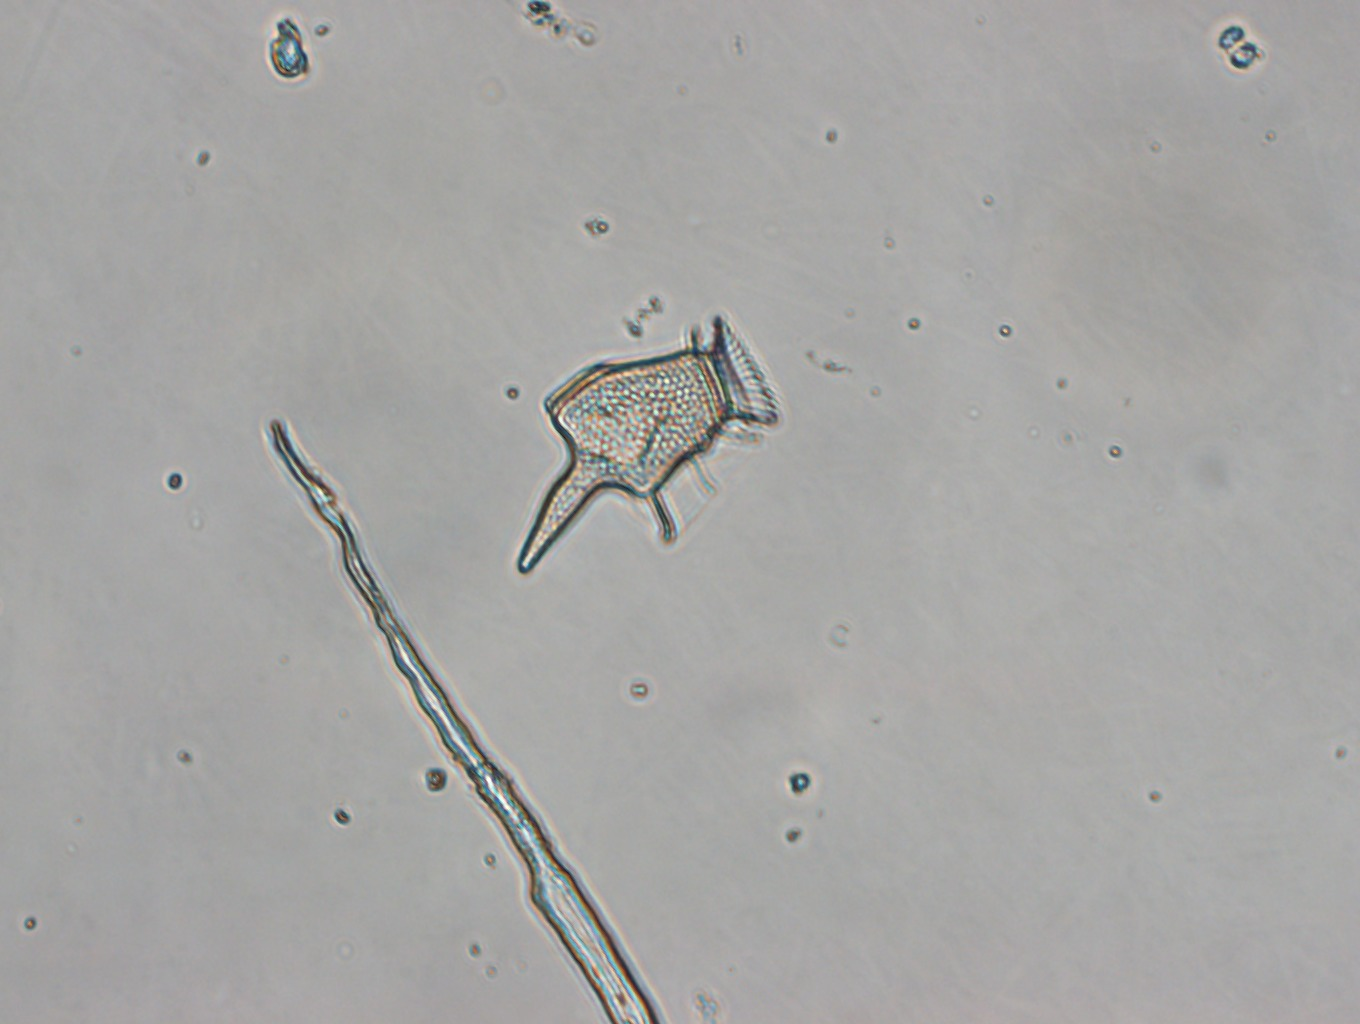dinophysis caudata: (505, 318, 788, 577)
